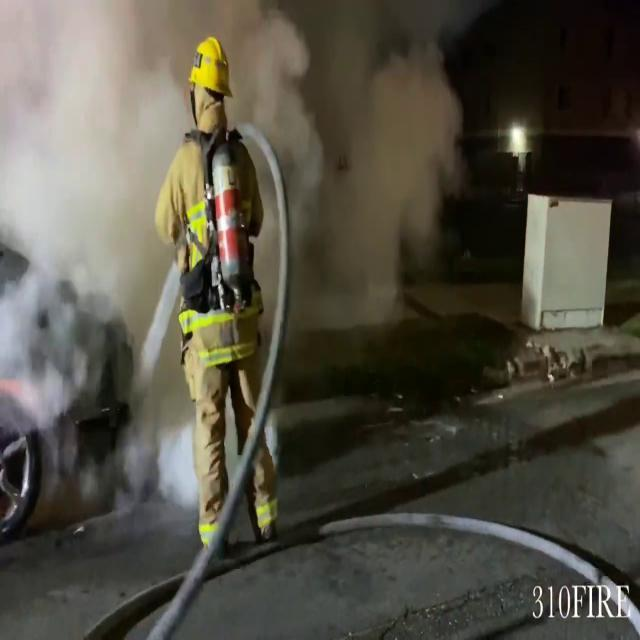Smoke: (1, 0, 482, 320)
